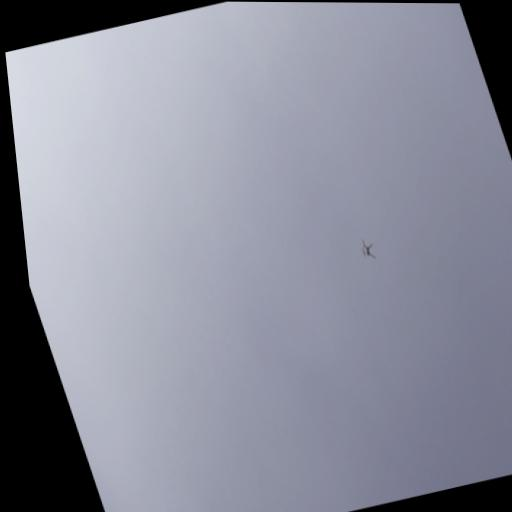drones: (357, 235, 380, 264)
